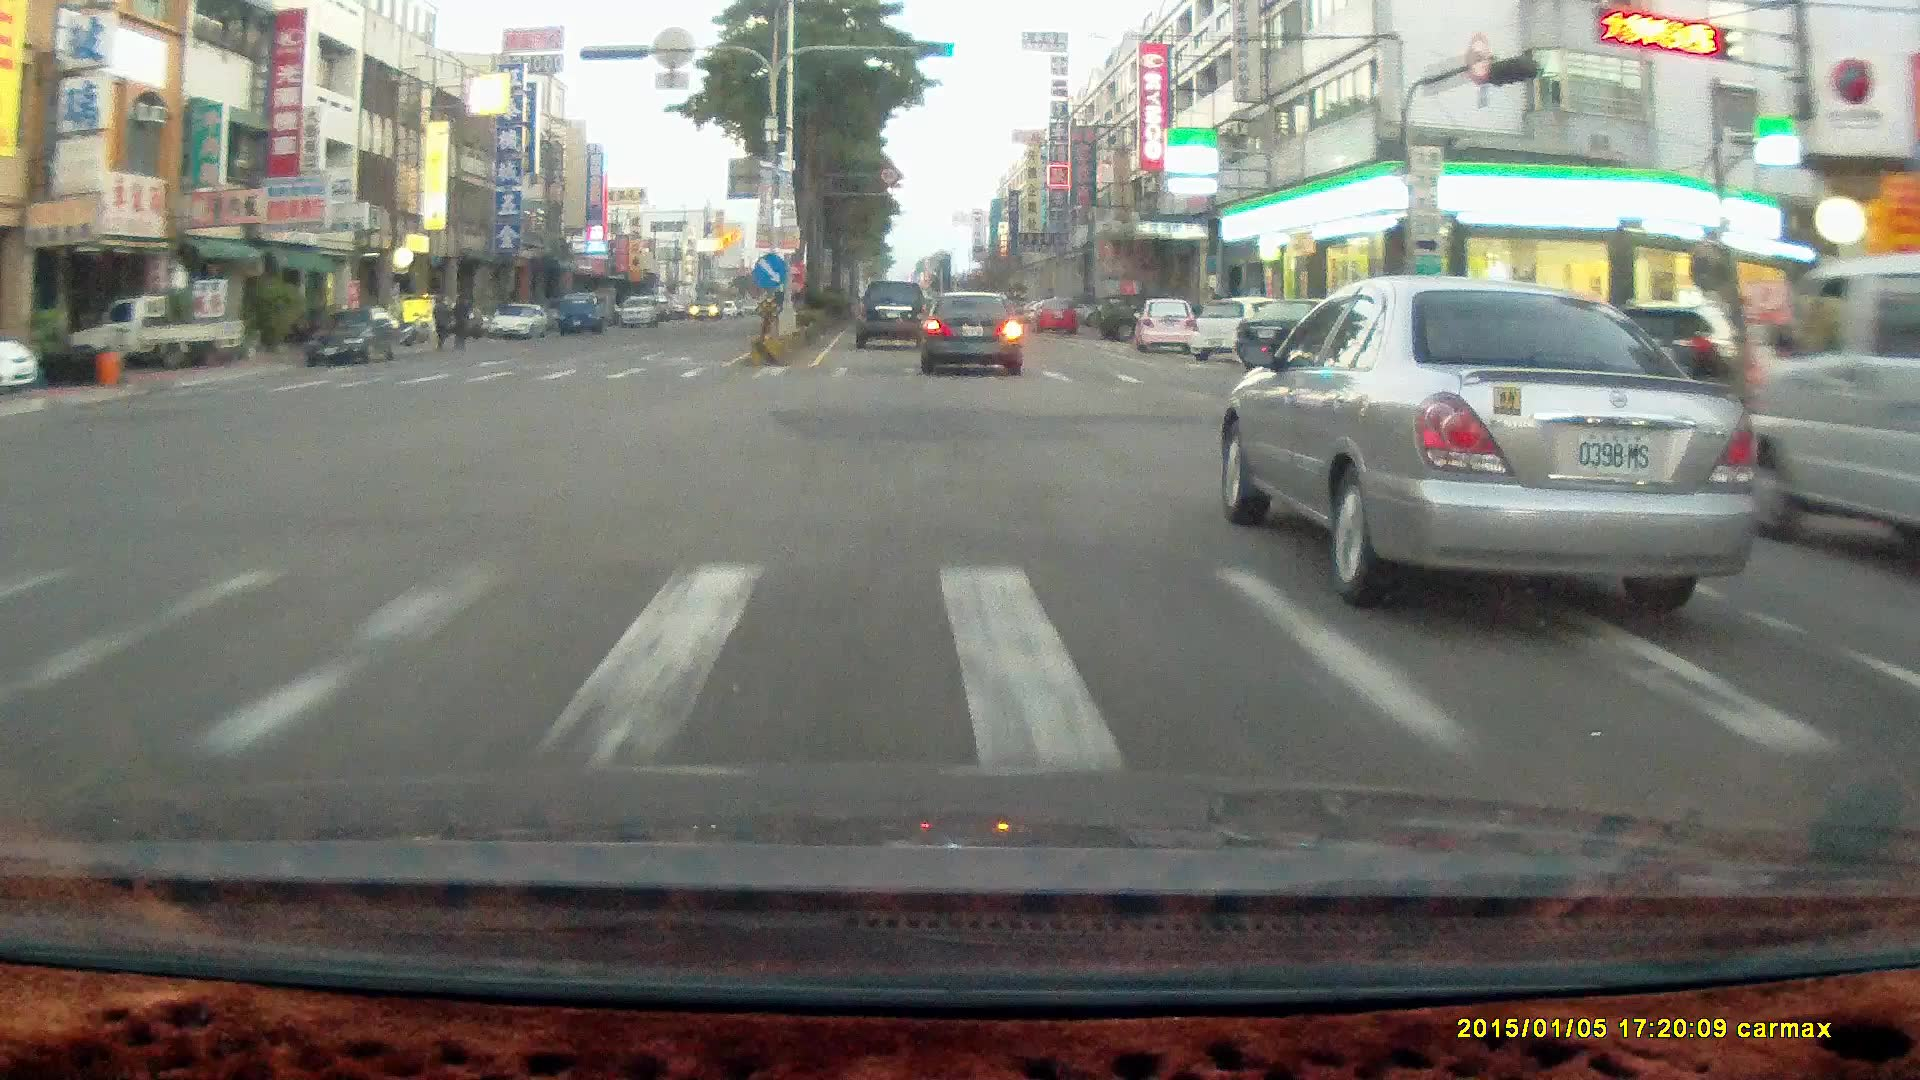pedestrian: (451, 282, 476, 347), (430, 288, 452, 349), (449, 292, 470, 351), (430, 290, 450, 352)
vehicle: (1226, 285, 1763, 604), (1732, 253, 1920, 568), (1732, 252, 1920, 567), (1593, 290, 1744, 420), (76, 292, 241, 379), (65, 294, 243, 373), (1235, 295, 1370, 371), (1236, 297, 1363, 374), (922, 292, 1027, 378), (921, 288, 1022, 374), (1191, 295, 1298, 361), (299, 305, 407, 368), (859, 278, 933, 353), (304, 308, 400, 364), (853, 279, 929, 350), (1131, 295, 1197, 353), (1096, 291, 1170, 340), (1138, 300, 1200, 358), (487, 302, 552, 342), (555, 294, 605, 336), (487, 303, 546, 338), (556, 291, 599, 335), (1032, 294, 1078, 331), (618, 293, 659, 326)
